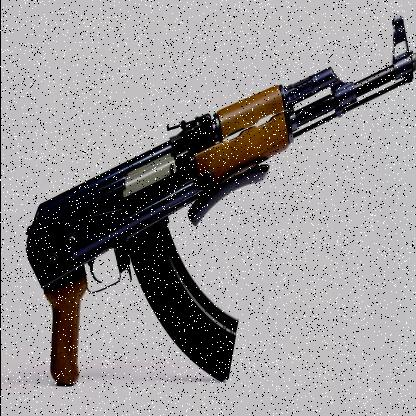rifle: (15, 25, 395, 403)
